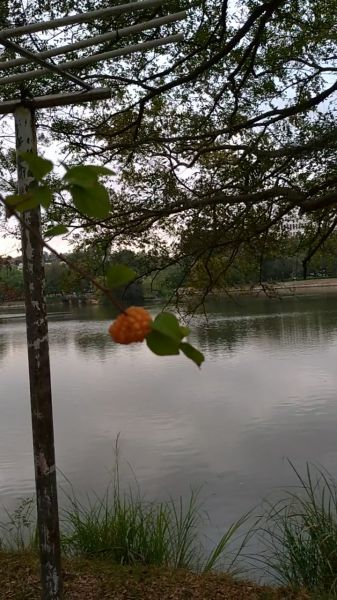eggs: (108, 300, 156, 350)
